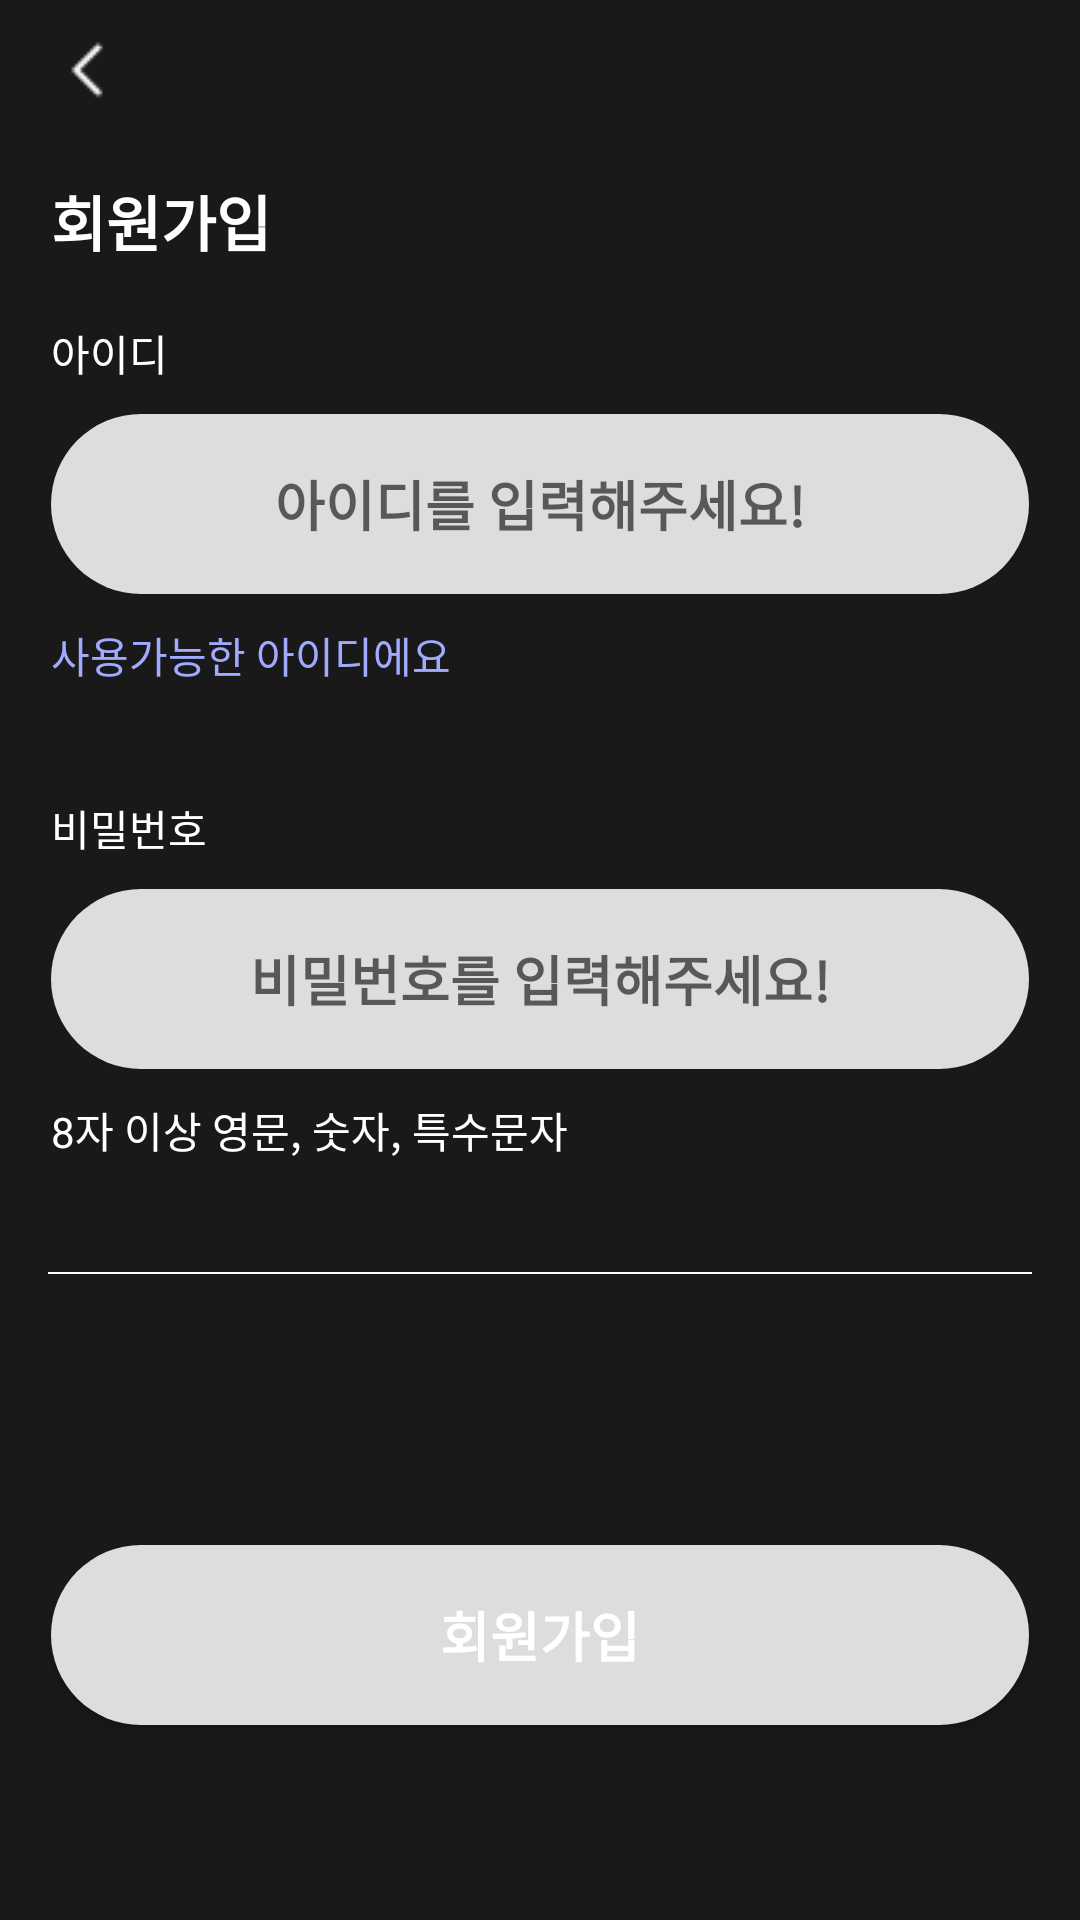

Named icons in this screenshot (1080×1920) and their bounding boxes, (x1, y1, x2, y2):
back: (71, 42, 103, 98)
